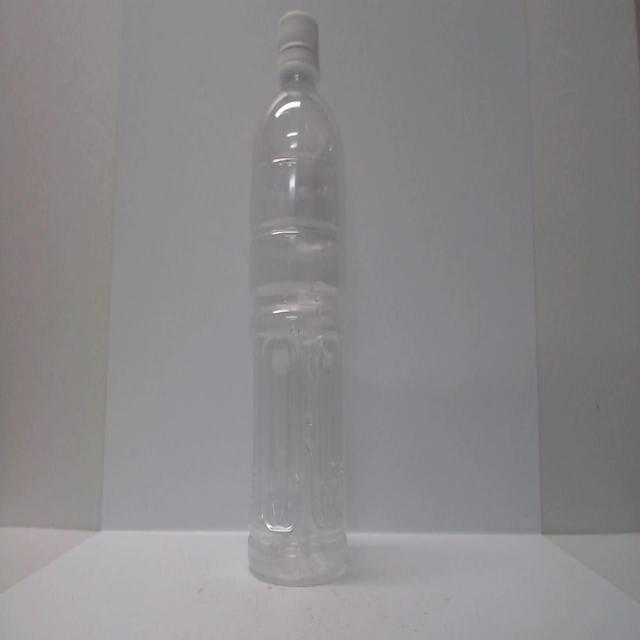bottle: (233, 4, 366, 593)
